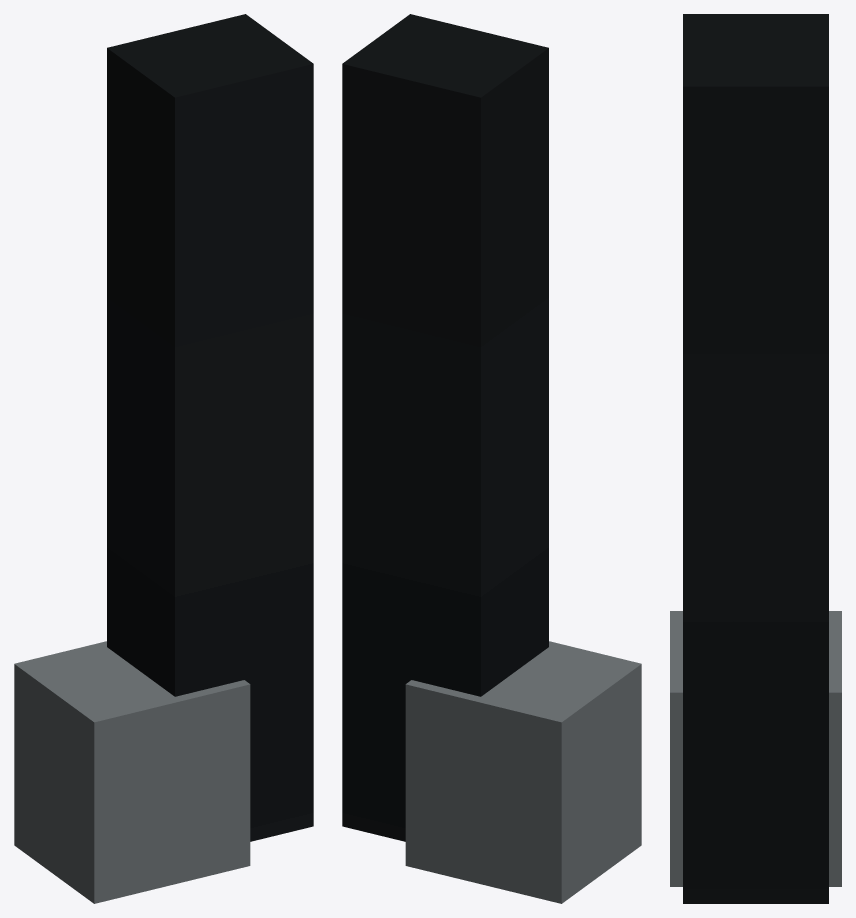
Rendered from Vetluga_B3_Trigger.glb.
The picture shows the model from 3 angles, left to right: view 1: azimuth 30°, elevation 25°; view 2: azimuth 150°, elevation 25°; view 3: azimuth 270°, elevation 25°; orthographic projection. The views are drawn at different scales.
Visible parts, largest first — view 1: Trigger, Trigger shoe; view 2: Trigger, Trigger shoe; view 3: Trigger, Trigger shoe.
Boxes of the visible parts, x1,y1,x2,y2 form: Trigger: (107, 14, 313, 841); Trigger shoe: (14, 641, 250, 903); Trigger: (342, 14, 548, 841); Trigger shoe: (405, 641, 641, 903); Trigger: (683, 14, 828, 903); Trigger shoe: (670, 611, 841, 886).
Bounding box in the file's own units: 0.013 × 0.043 × 0.008.
1 material, 1 textured.
